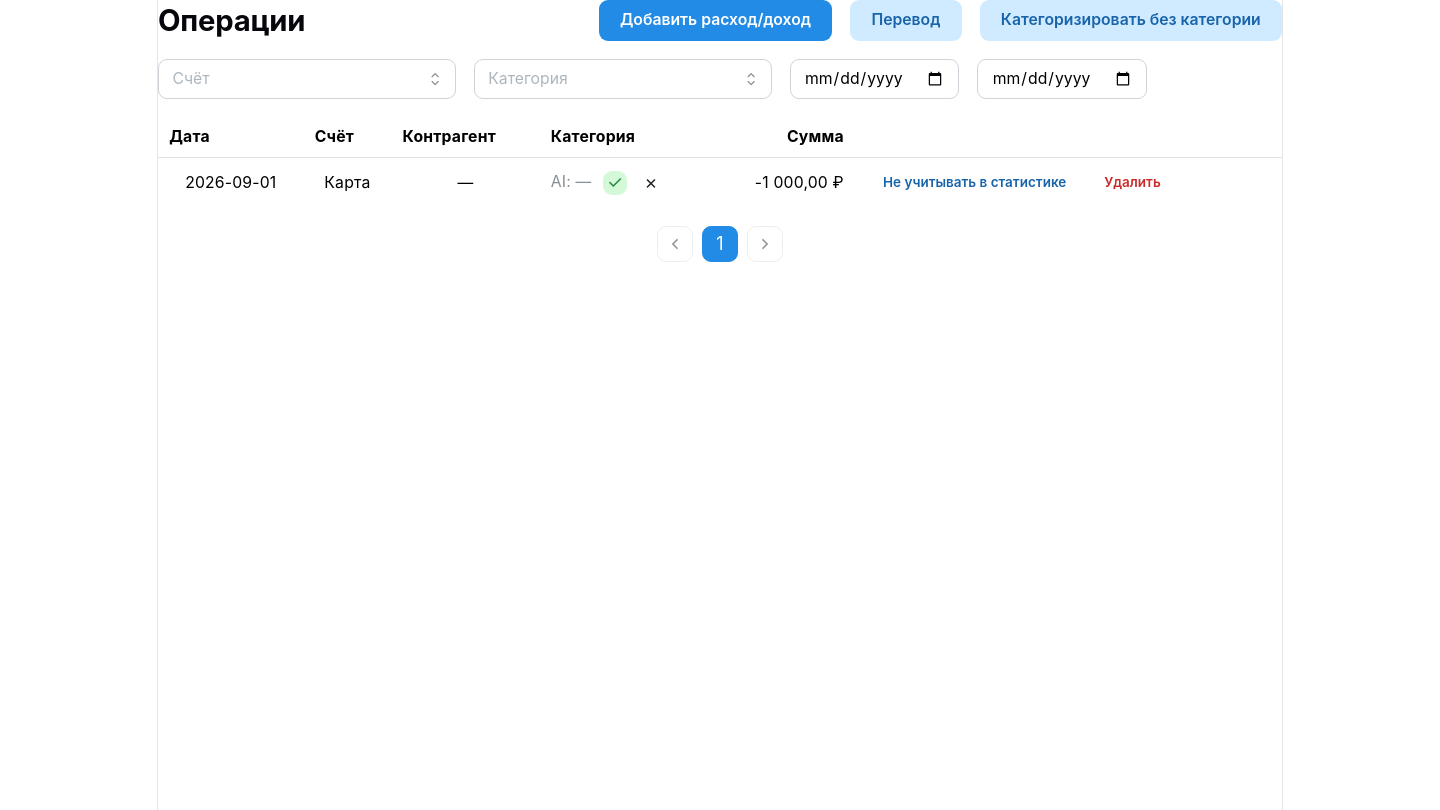
Test: когда похожих операций нет, вопрос не задаётся
Click the button named "Подтвердить категорию" at (615, 183), box [603, 170, 628, 195]
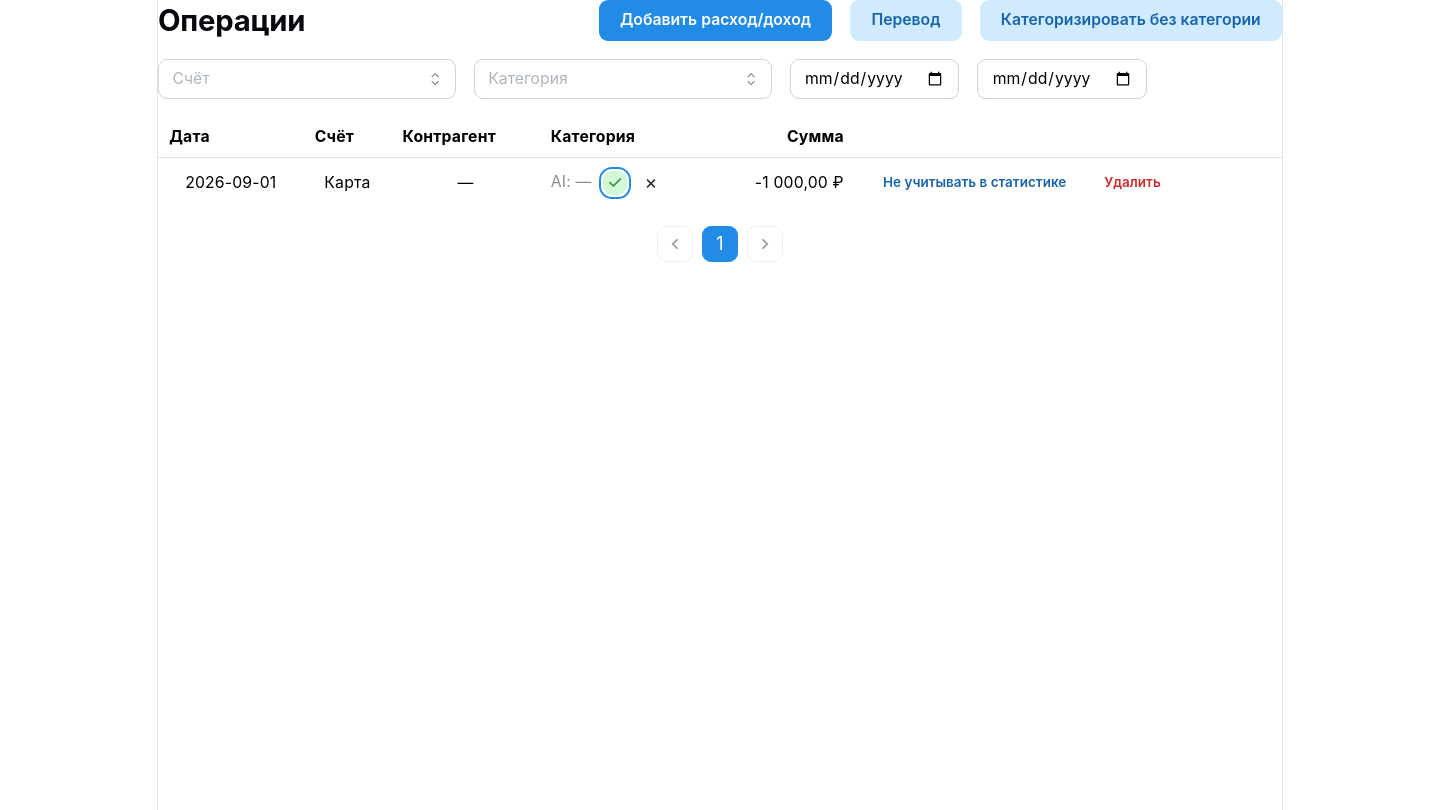
Click the button "Добавить расход/доход" at (715, 20), box [599, 0, 832, 40]
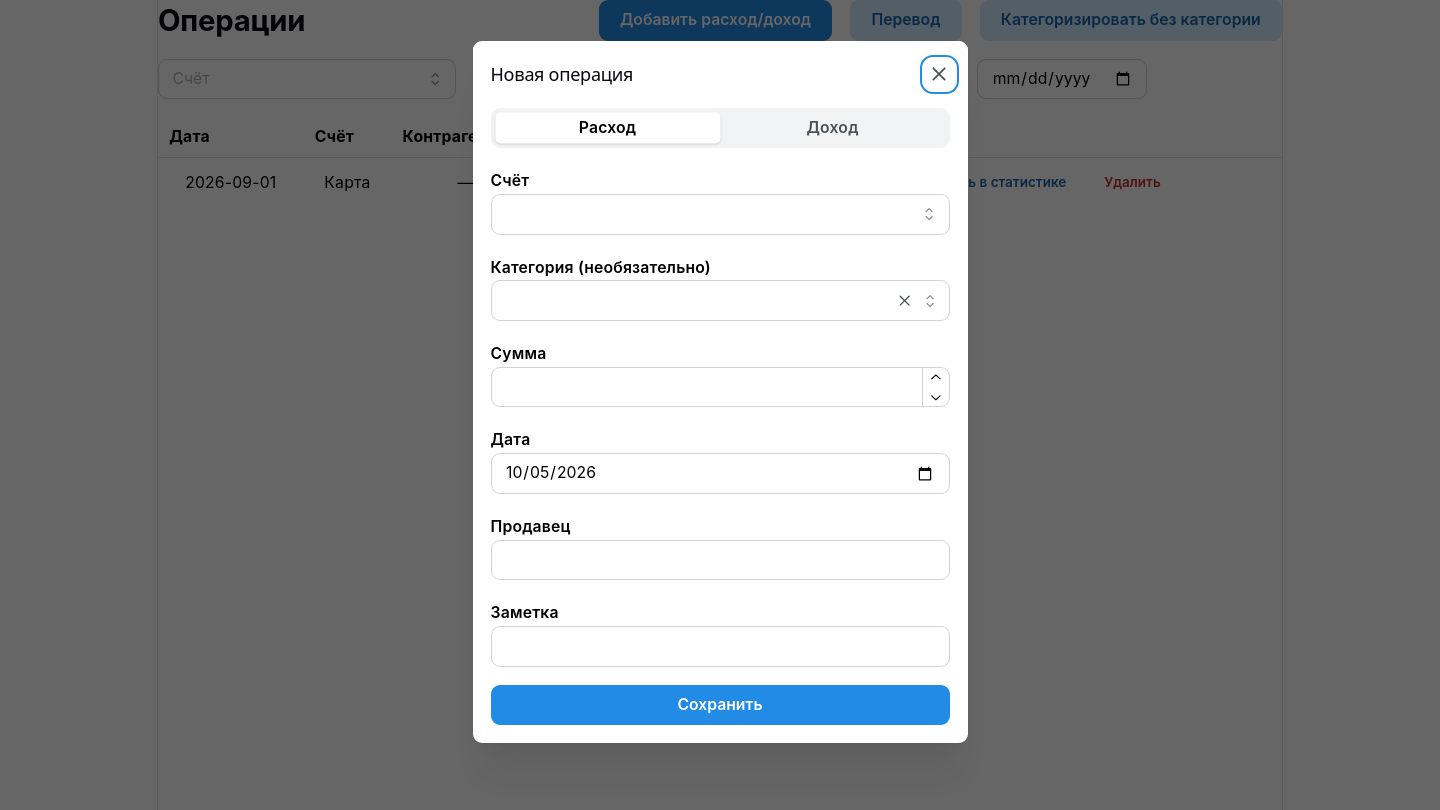
Now the heading "Новая операция" is shown, box [490, 65, 633, 83]
